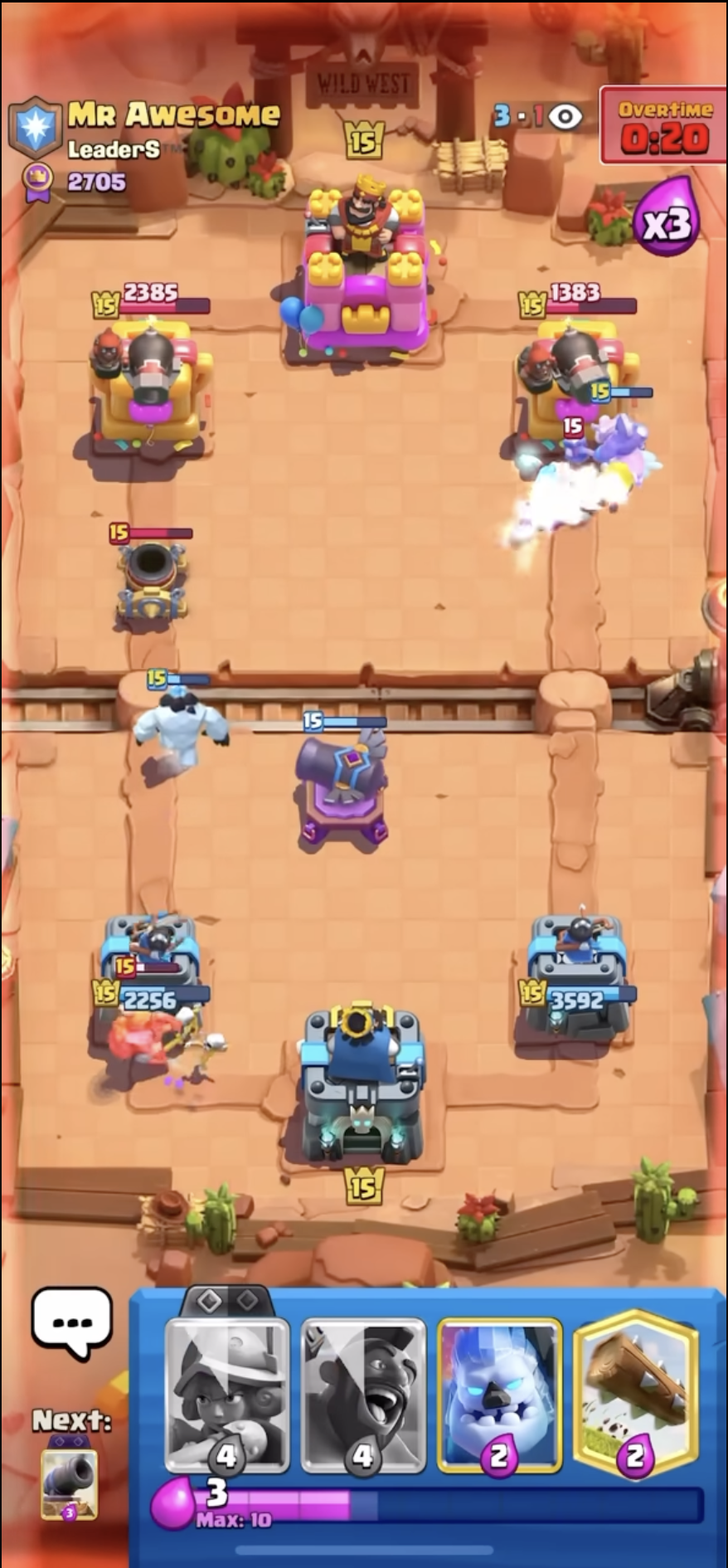evo_cannon: (279, 691, 406, 860)
hog_rider: (578, 379, 668, 511)
ice_golem: (124, 661, 238, 797)
skeletons: (196, 1018, 232, 1072), (166, 994, 196, 1056)
